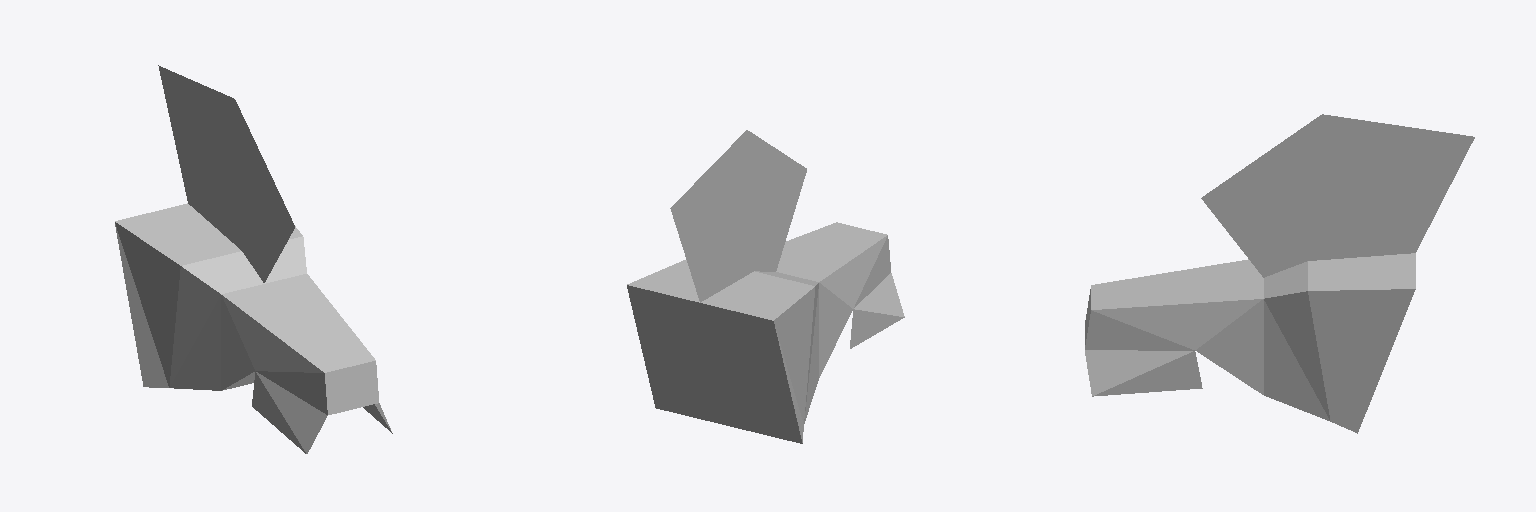
Rendered from ventoraptorskull.obj.
The picture shows the model from 3 angles: view 1: azimuth 30°, elevation 25°; view 2: azimuth 150°, elevation 25°; view 3: azimuth 270°, elevation 25°; orthographic projection.
Parts seen in each view (by area): view 1: Base; view 2: Base; view 3: Base.
Part boxes in pixels (bbox=[...]): Base: bbox=[115, 65, 392, 453]; Base: bbox=[627, 130, 904, 443]; Base: bbox=[1085, 114, 1474, 433].
Bounding box in the file's own units: 0.288 × 0.5304 × 0.6624.